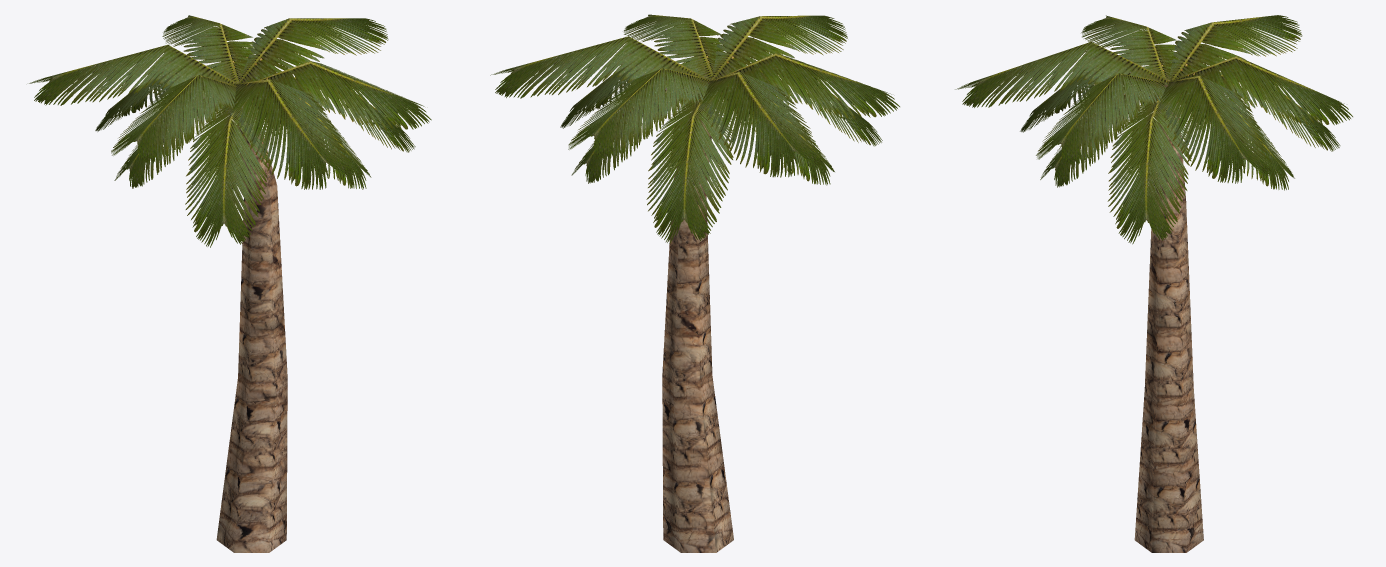
The model's file is palm.fbx.
3 renders of one model, left to right at view 1: azimuth 30°, elevation 25°; view 2: azimuth 150°, elevation 25°; view 3: azimuth 270°, elevation 25°, orthographic. The views are drawn at different scales.
Visible parts, largest first — view 1: Leaf, Base; view 2: Leaf, Base; view 3: Leaf, Base.
Part boxes in pixels (x1,y1,x2,y2): Leaf: (29, 15, 431, 247); Base: (216, 112, 287, 552); Leaf: (490, 14, 899, 243); Base: (662, 76, 733, 552); Leaf: (955, 15, 1352, 244); Base: (1134, 85, 1203, 552).
Bounding box in the file's own units: 1261 × 1563 × 1235.
2 materials, 2 textured.
